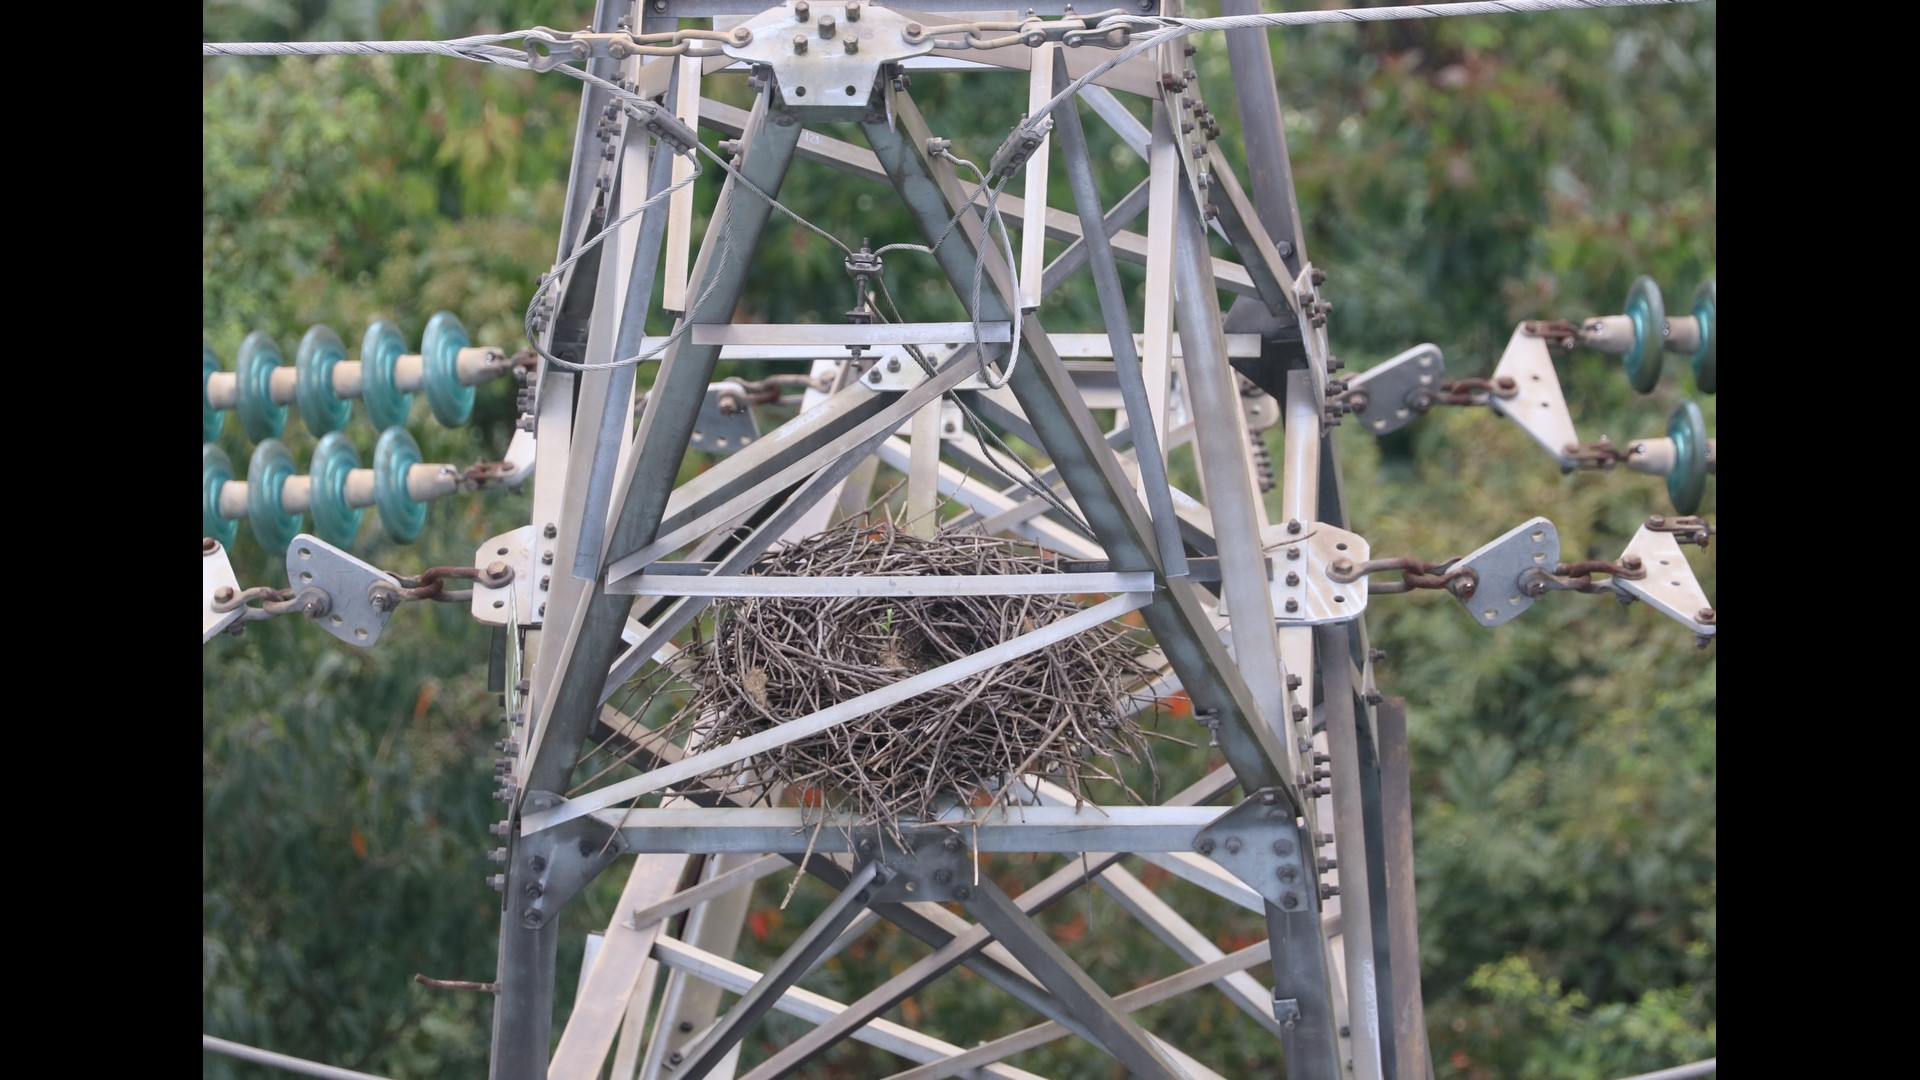niaowo: (684, 506, 1139, 836)
